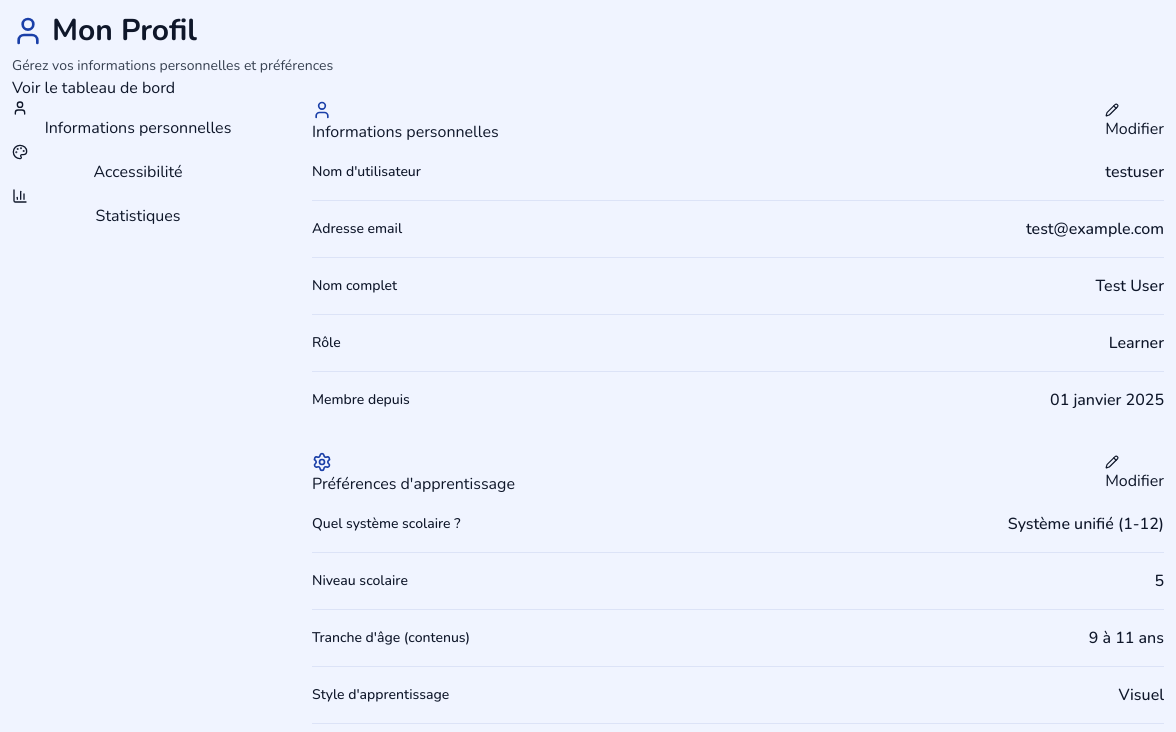
it: ProfilePage › switches to the accessibility section on click
Click the button "Accessibilité".
click(138, 164)  # box x1=12 y1=144 x2=264 y2=184
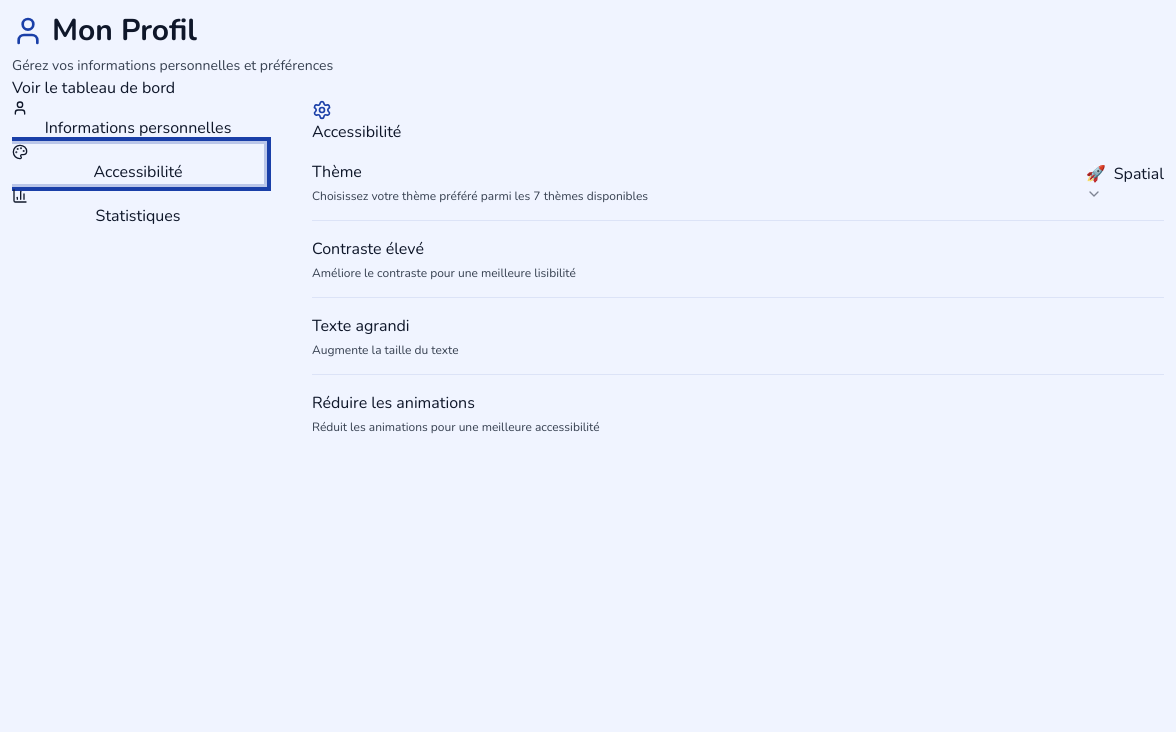
Expected: the text "Thème" is shown, x1=312 y1=160 x2=362 y2=182
